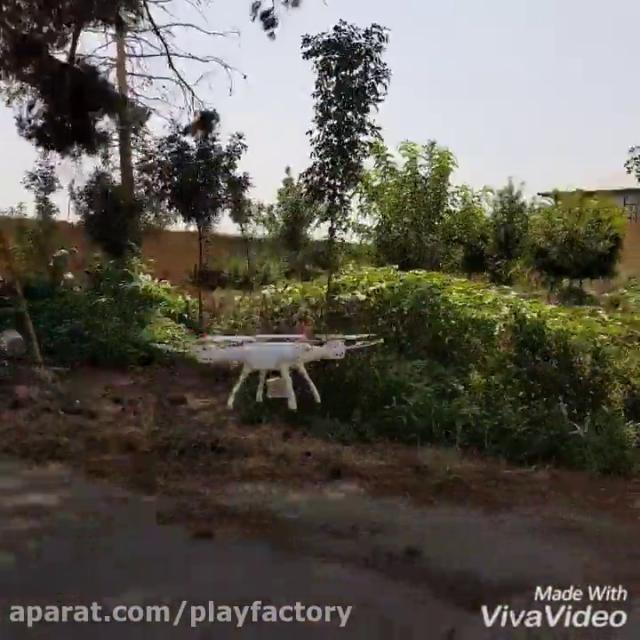drone: (148, 322, 385, 408)
